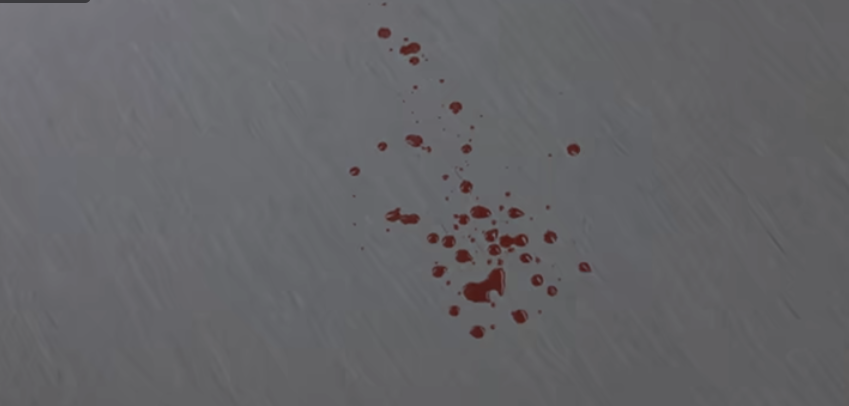blood_39.png: (310, 3, 613, 351)
